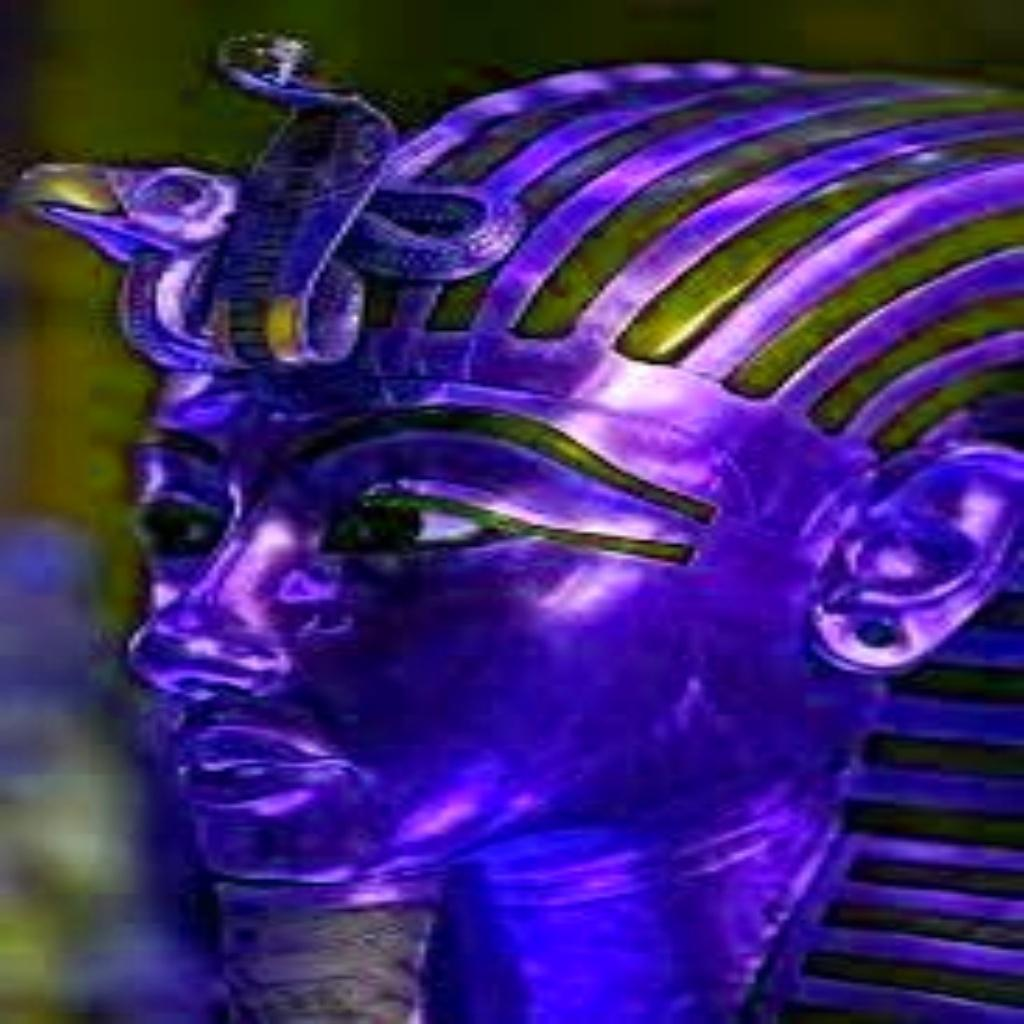Mask of Tutankhamun: (0, 26, 1018, 1020)
